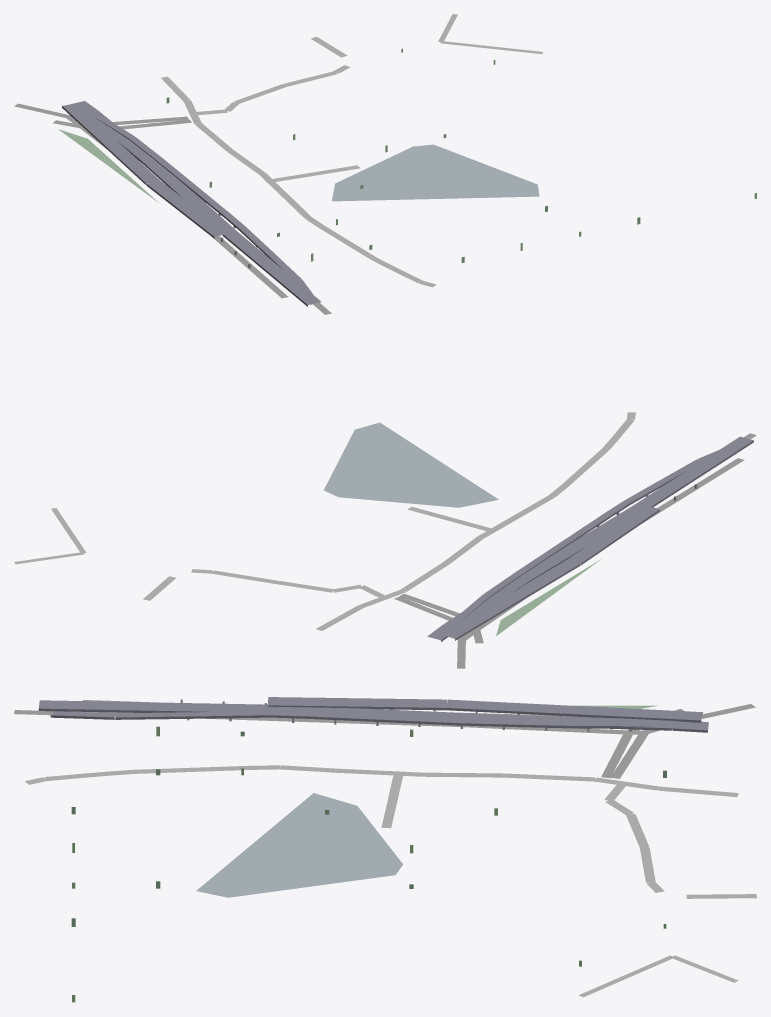
3 views of the same model, one above another, from view 1: azimuth 30°, elevation 25°; view 2: azimuth 150°, elevation 25°; view 3: azimuth 270°, elevation 25° (orthographic). The views are drawn at different scales.
Size of the model in its own units: 484 by 20.94 by 528.
